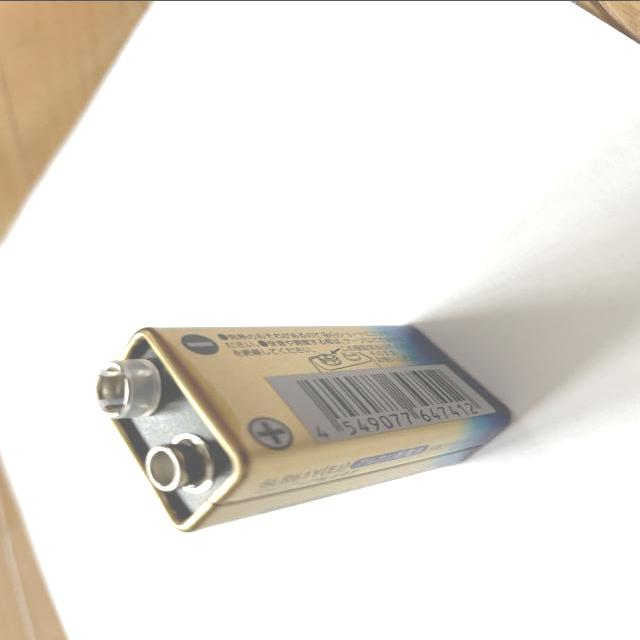9V: (89, 324, 512, 530)
